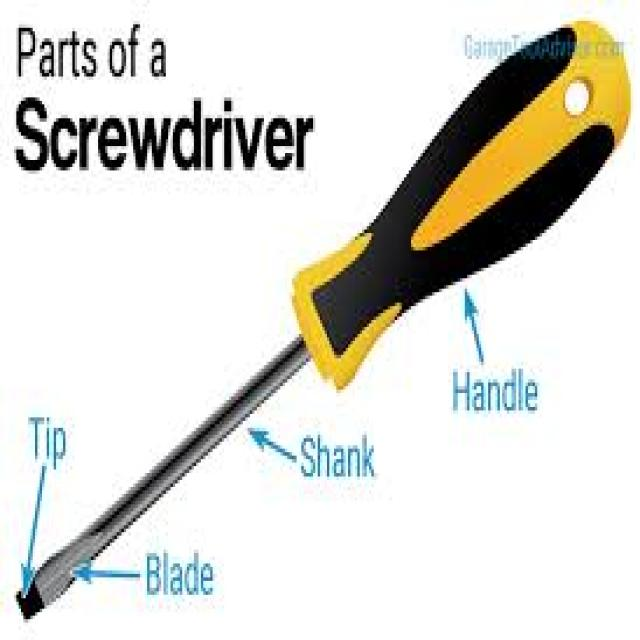screw driver: (16, 49, 640, 608)
